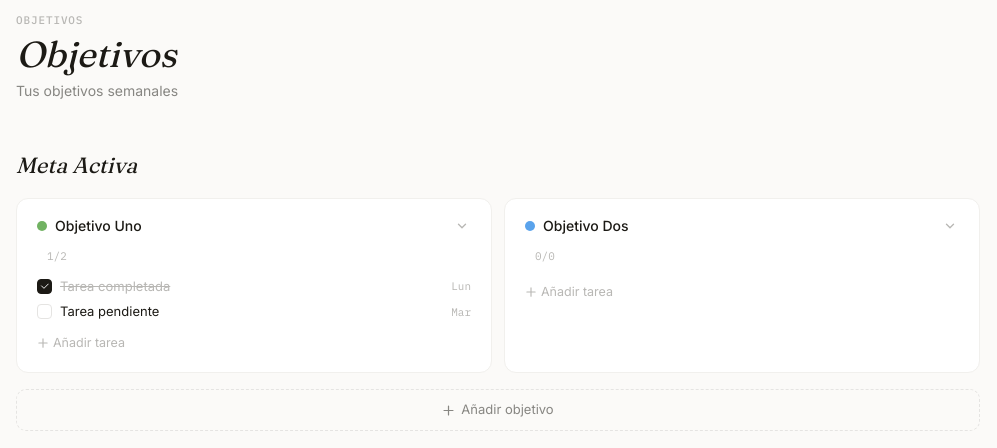
Scenario: ViewObjetivos › collapse/expand hides and shows the task list
The width and height of the screenshot is (997, 448).
Expected: the element with test id "task-list-obj-1" is shown, [37, 277, 471, 356]
Expected: the text "Tarea pendiente" is shown, [60, 303, 159, 319]
# Click collapse button
Click the button with test id "collapse-btn-obj-1" at {"x": 462, "y": 226}, box [453, 217, 471, 235]
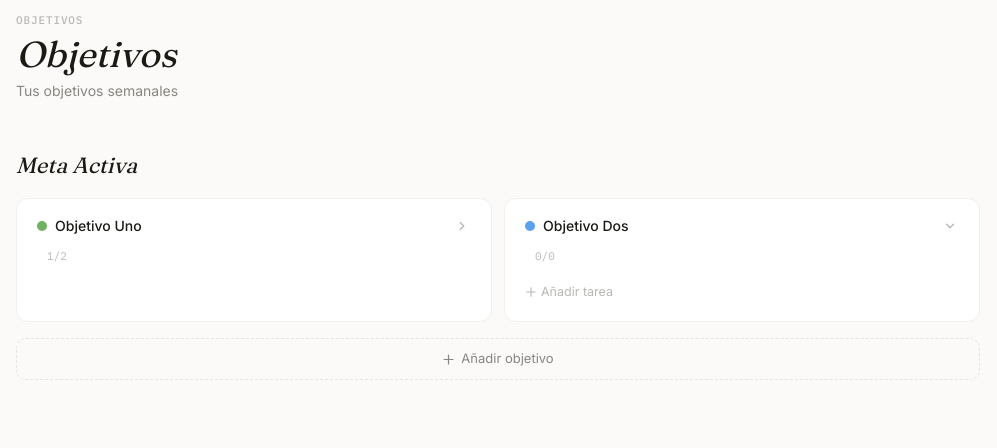
Now the element with test id "task-list-obj-1" is gone
Now the text "Tarea pendiente" is gone
# Click expand again
Click the button with test id "collapse-btn-obj-1" at {"x": 462, "y": 226}, box [453, 217, 471, 235]
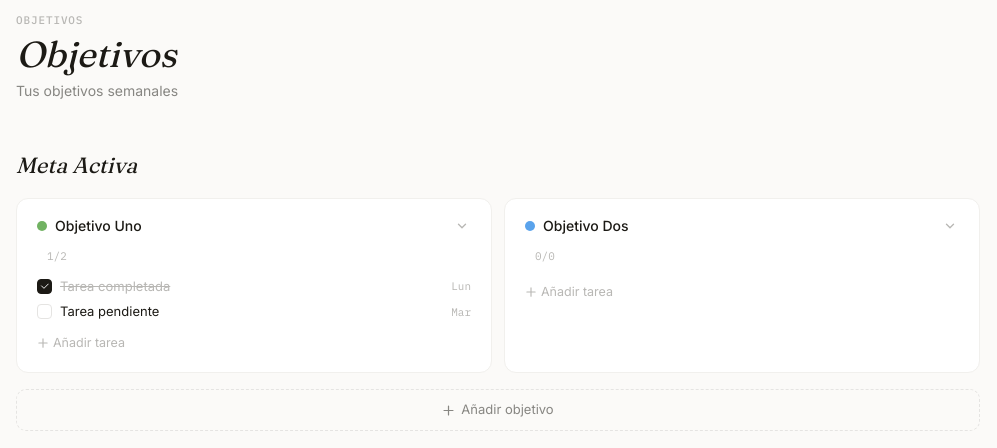
Now the element with test id "task-list-obj-1" is shown, box [37, 277, 471, 356]
Now the text "Tarea pendiente" is shown, box [60, 303, 159, 319]
